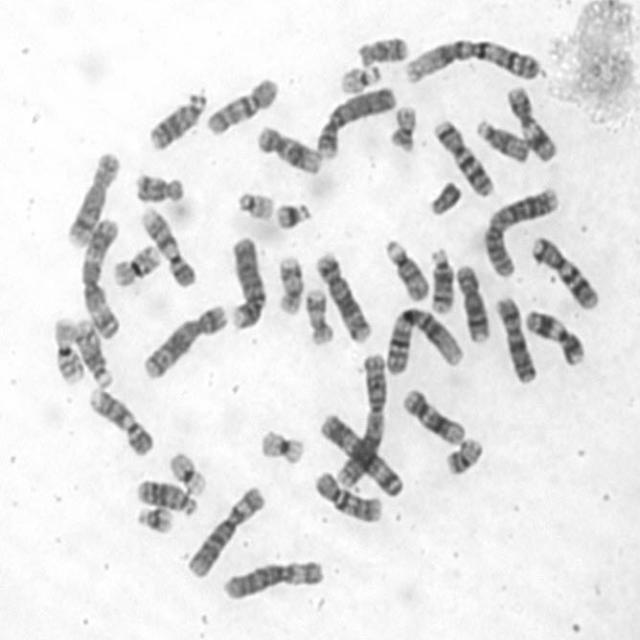A1: (404, 38, 540, 82), (385, 306, 465, 376)
A2: (335, 352, 387, 488), (485, 186, 560, 276)
A3: (319, 413, 404, 497), (80, 217, 122, 342)
B4: (317, 86, 397, 158), (227, 235, 266, 329)
B5: (144, 305, 229, 379), (315, 252, 373, 344)
C10: (207, 78, 279, 134), (313, 470, 384, 522)
C11: (506, 86, 557, 162), (524, 310, 585, 367)
C12: (402, 388, 466, 446), (257, 126, 323, 174)
C6: (188, 484, 265, 577), (223, 559, 325, 599)
C7: (532, 236, 599, 310), (432, 119, 494, 198)
C8: (67, 152, 121, 249), (455, 264, 492, 344)
C9: (139, 206, 196, 287), (87, 389, 155, 456)
D13: (150, 92, 208, 149), (135, 478, 197, 516)
D14: (71, 318, 113, 390), (429, 247, 456, 315)
D15: (383, 239, 430, 301), (475, 118, 531, 165)
E16: (112, 244, 161, 286), (54, 316, 84, 384)
E17: (305, 288, 334, 344), (278, 256, 305, 315)
E18: (357, 36, 409, 67), (134, 173, 185, 204)
F19: (169, 452, 207, 496), (260, 430, 304, 464)
F20: (445, 436, 483, 476), (389, 105, 418, 153)
G21: (275, 202, 312, 230), (137, 506, 175, 533)
G22: (340, 65, 382, 94), (237, 191, 274, 221)
X: (493, 296, 538, 383)
Y: (428, 181, 463, 216)
